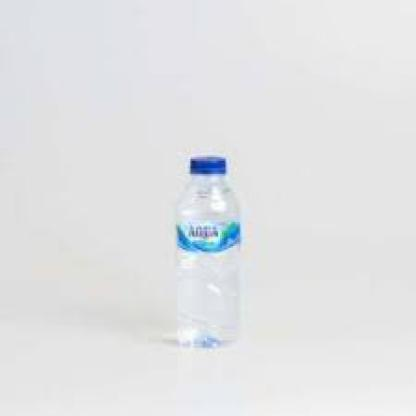Glass Bottle: (163, 148, 250, 359)
